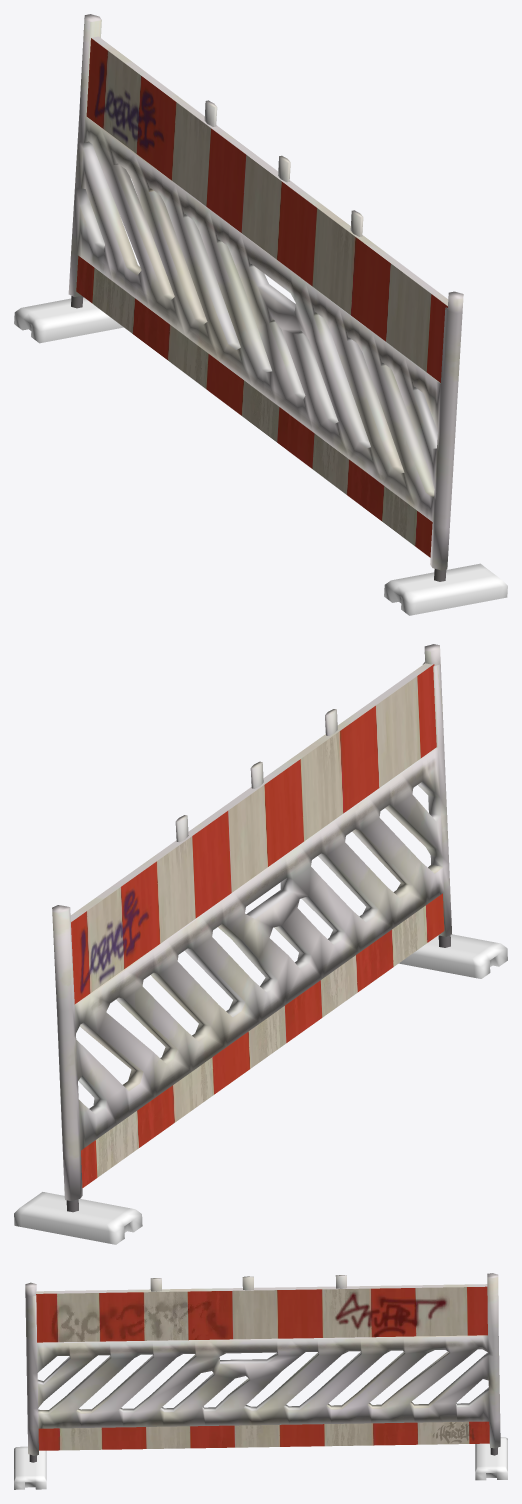
File: peligro.obj
3 renders of one model, top to bottom at view 1: azimuth 30°, elevation 25°; view 2: azimuth 150°, elevation 25°; view 3: azimuth 270°, elevation 25°, orthographic. The views are drawn at different scales.
Parts seen in each view (by area): view 1: Cylinder.001, fence_foot_Cube.001_1, fence_foot_Cube.001; view 2: Cylinder.001, fence_foot_Cube.001, fence_foot_Cube.001_1; view 3: Cylinder.001, fence_foot_Cube.001_1, fence_foot_Cube.001.
Part boxes in pixels (box(x1,y1,x2,y2)): Cylinder.001: box(68, 14, 463, 581); fence_foot_Cube.001_1: box(384, 563, 507, 615); fence_foot_Cube.001: box(14, 297, 123, 343); Cylinder.001: box(52, 644, 451, 1212); fence_foot_Cube.001: box(14, 1192, 142, 1244); fence_foot_Cube.001_1: box(399, 934, 507, 978); Cylinder.001: box(25, 1273, 500, 1462); fence_foot_Cube.001_1: box(14, 1446, 46, 1489); fence_foot_Cube.001: box(475, 1437, 507, 1480).
Bounding box in the file's own units: 0.9168 × 2.57 × 5.71.
2 materials, 1 textured.
